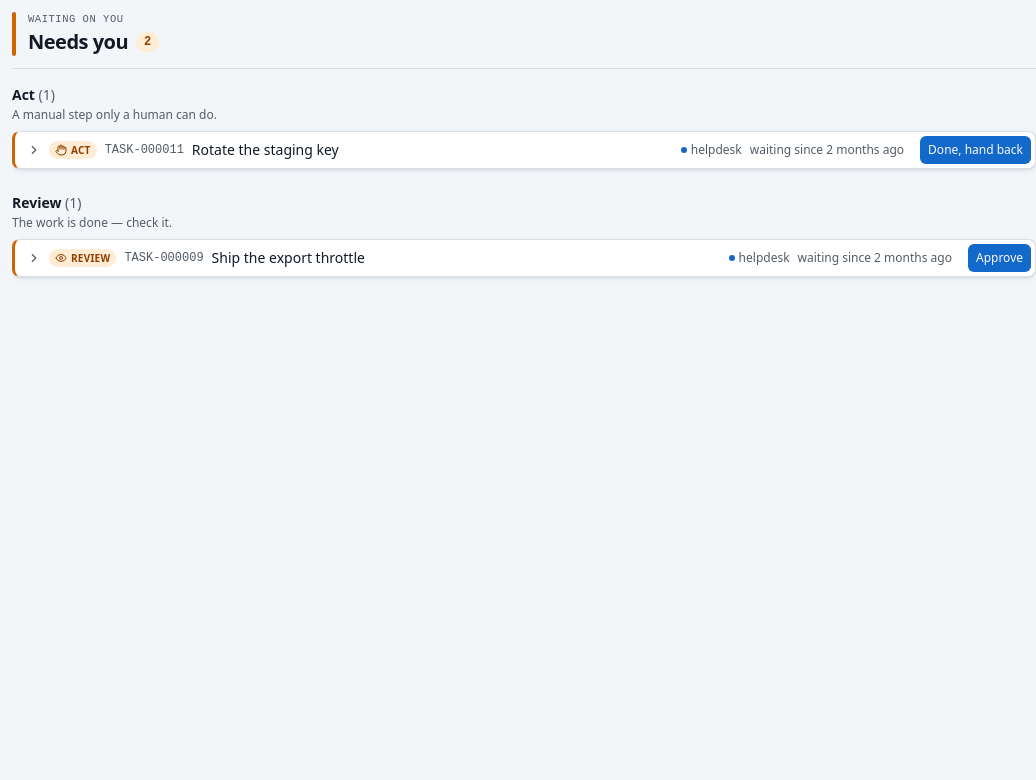
Scenario: NeedsYouSection › only expands one row at a time
Check: the text "Ship the export throttle" is shown, box top-left (212, 248), bottom-right (365, 267)
Click the button that starts with "Review" at x=83, y=258, box top-left (19, 244), bottom-right (960, 272)
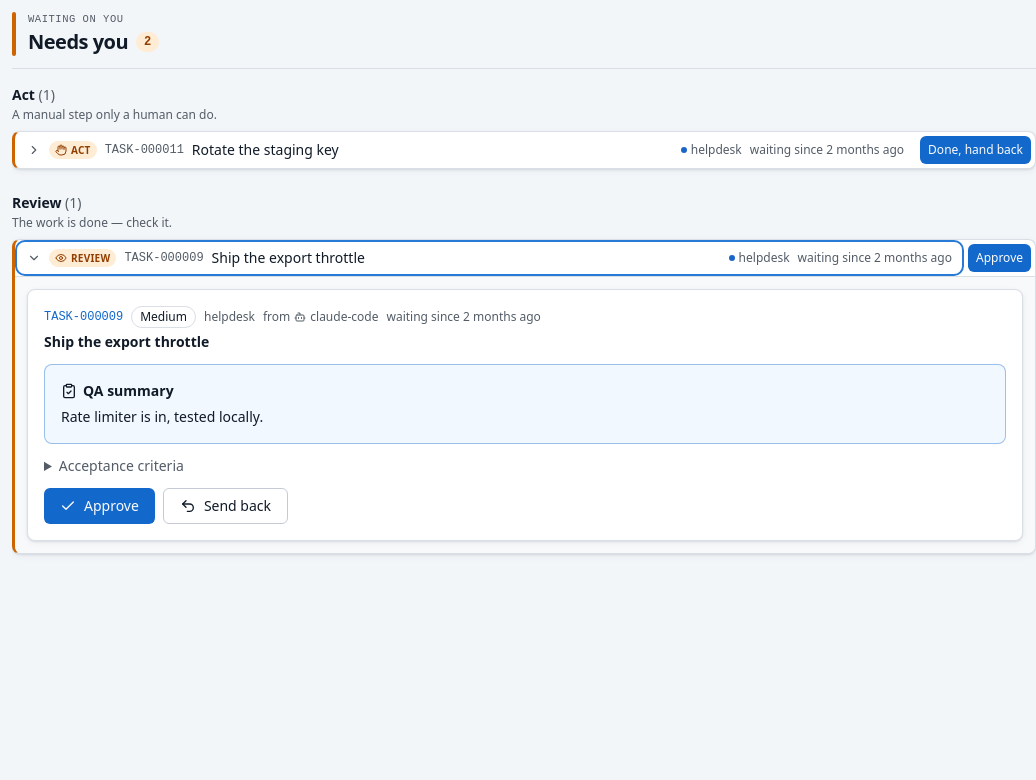
Check: the button that starts with "Review" is expanded, box top-left (19, 244), bottom-right (960, 272)
Click the button that starts with "Act" at x=73, y=150, box top-left (19, 136), bottom-right (912, 164)
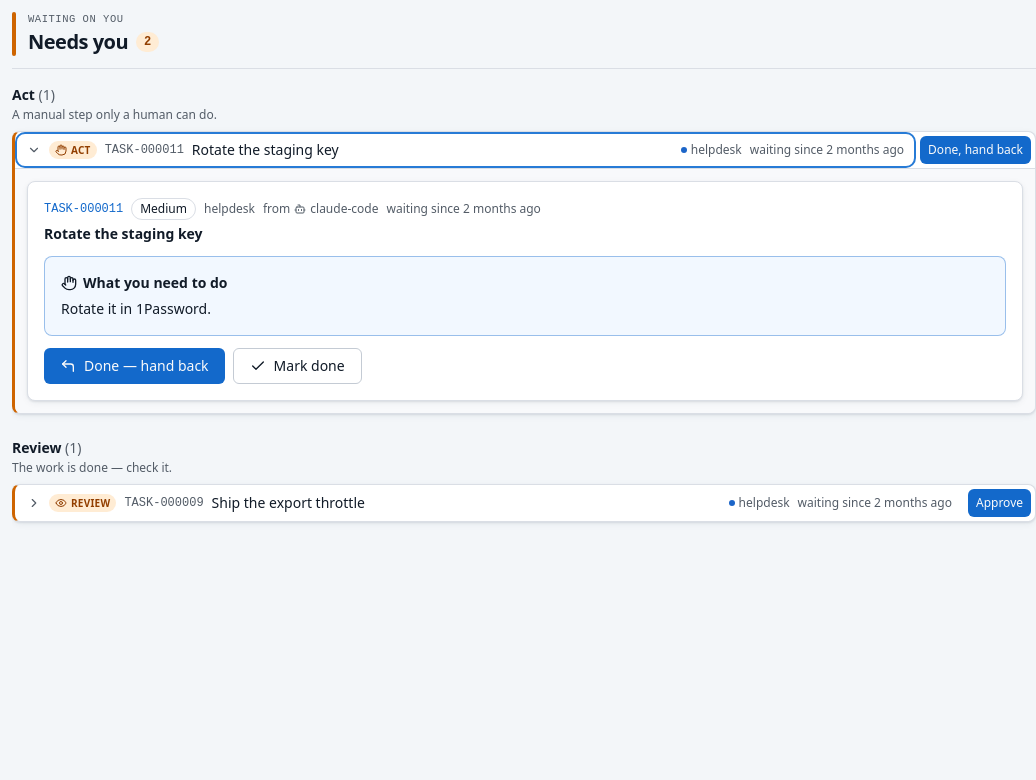
Check: the button that starts with "Act" is expanded, box top-left (19, 136), bottom-right (912, 164)
Check: the button that starts with "Review" is collapsed, box top-left (19, 489), bottom-right (960, 517)
